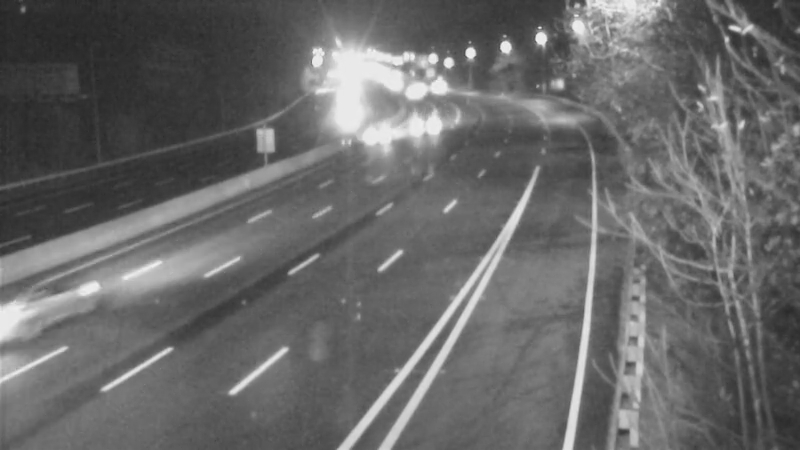vehicle: (1, 246, 107, 356), (413, 62, 463, 112), (393, 70, 443, 120), (397, 99, 447, 149), (356, 110, 406, 160), (319, 77, 369, 127)
